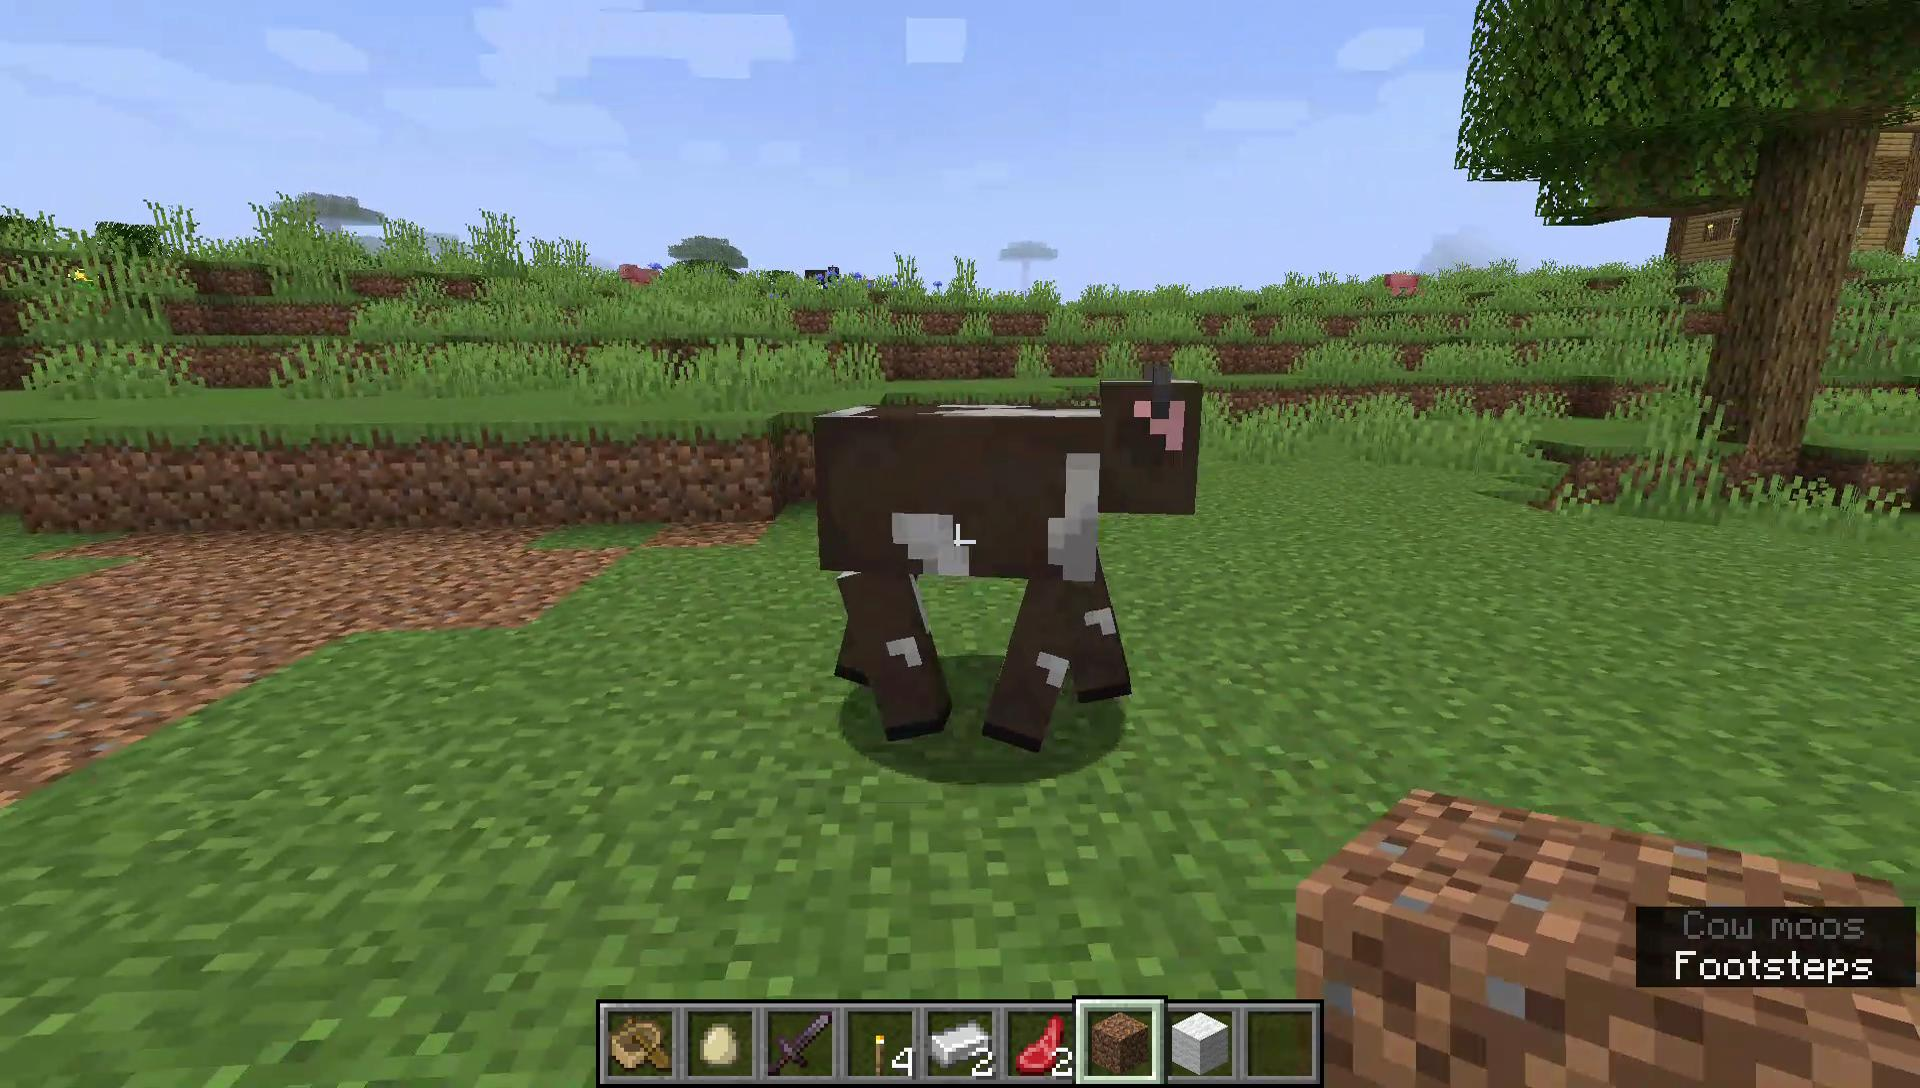cow: (804, 356, 1209, 758), (803, 264, 845, 293)
pig: (616, 260, 661, 293), (1379, 268, 1424, 301)
